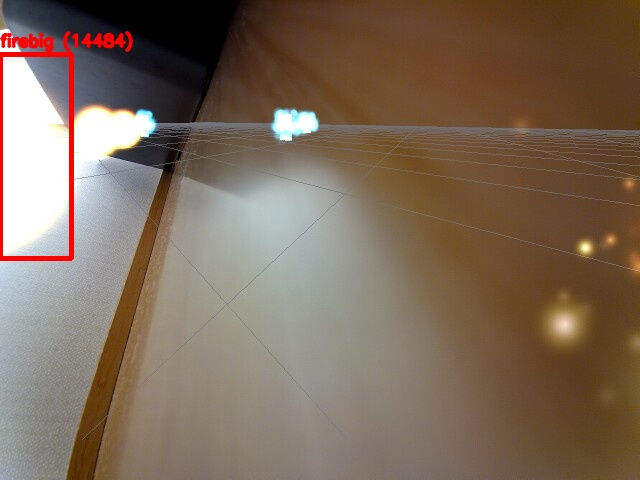firebig: (0, 54, 71, 258)
